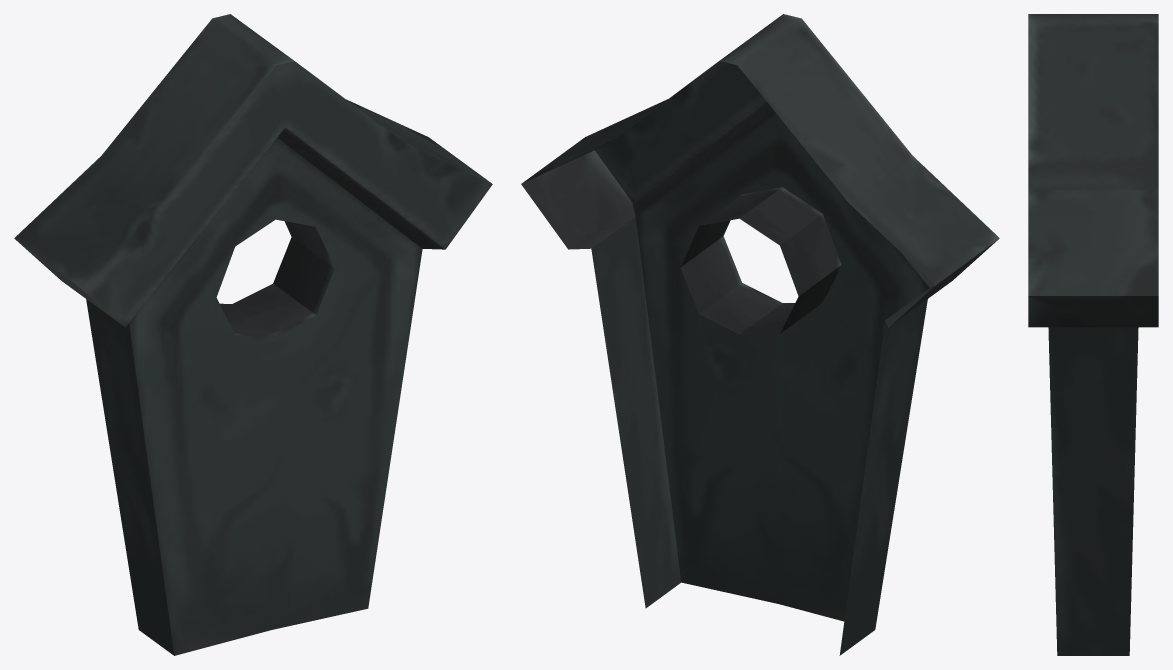
The model's file is yw_shanlin_tombstone_23.FBX.
The picture shows the model from 3 angles, left to right: view 1: azimuth 30°, elevation 25°; view 2: azimuth 150°, elevation 25°; view 3: azimuth 270°, elevation 25°; orthographic projection.
Parts seen in each view (by area): view 1: yw_shanlin_tombstone_23; view 2: yw_shanlin_tombstone_23; view 3: yw_shanlin_tombstone_23.
Part boxes in pixels (<box>): yw_shanlin_tombstone_23: <box>14,14,492,655</box>; yw_shanlin_tombstone_23: <box>521,14,999,655</box>; yw_shanlin_tombstone_23: <box>1028,14,1158,655</box>.
Bounding box in the file's own units: 50.56 × 67.53 × 13.55.
